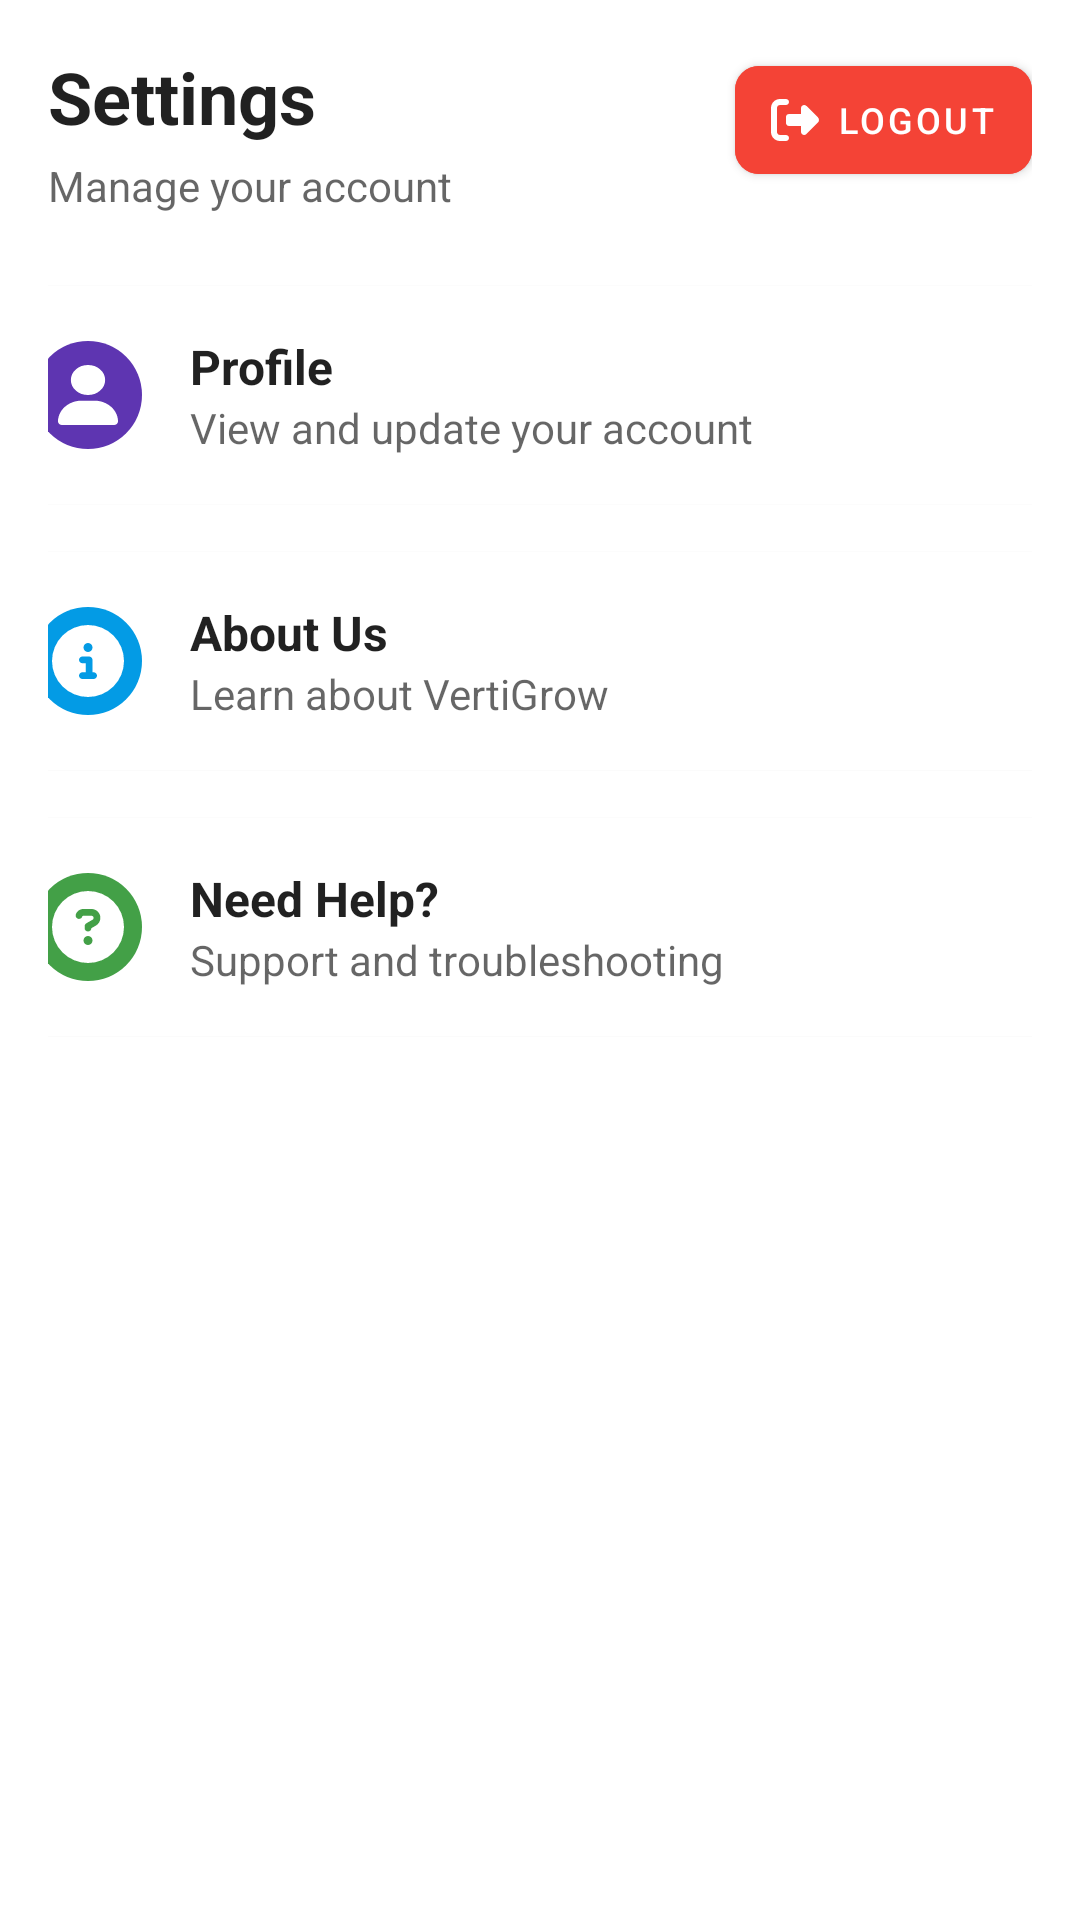

Icon bounding boxes for this 1080px×1920px phone screenshot, format (x1=x1, y1=y1, x2=x2, y2=y2):
info: (x1=52, y1=625, x2=124, y2=697)
